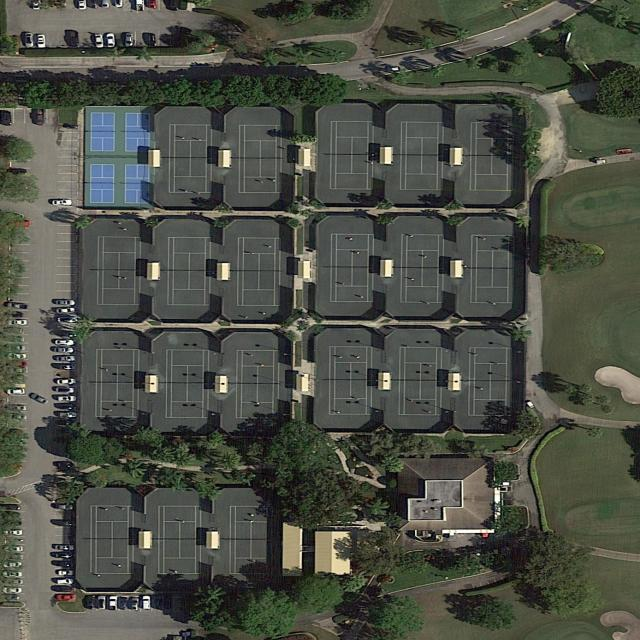small-vehicle: (29, 392, 49, 406), (55, 355, 77, 364), (68, 31, 80, 47), (6, 302, 29, 310), (2, 112, 14, 127), (56, 330, 78, 338), (3, 544, 25, 552), (56, 378, 77, 386), (55, 593, 76, 601), (6, 352, 27, 360), (147, 33, 159, 47), (55, 307, 76, 315), (2, 586, 23, 594), (118, 596, 129, 611), (60, 411, 78, 420), (51, 552, 74, 559), (52, 561, 75, 568), (55, 339, 75, 347), (57, 395, 77, 403), (7, 405, 27, 413), (107, 596, 118, 610), (57, 316, 79, 323), (7, 387, 26, 395), (106, 33, 116, 48), (35, 109, 45, 124), (52, 199, 73, 206), (55, 387, 76, 394), (55, 520, 76, 527), (3, 529, 24, 536), (57, 364, 78, 371), (2, 570, 23, 577), (8, 414, 29, 421), (57, 569, 75, 577), (94, 34, 104, 48), (55, 346, 75, 353), (96, 595, 106, 609), (130, 597, 140, 611), (3, 561, 23, 568), (55, 403, 75, 410), (3, 578, 23, 585), (55, 544, 74, 551), (54, 503, 73, 510), (8, 319, 27, 326), (87, 596, 98, 608), (25, 32, 33, 48), (125, 33, 134, 47), (37, 34, 46, 48), (56, 578, 74, 585), (9, 168, 27, 175), (55, 300, 75, 306), (5, 554, 25, 560), (143, 595, 151, 609), (2, 504, 20, 510), (54, 586, 73, 591), (3, 595, 20, 600), (58, 462, 74, 467), (594, 159, 606, 164), (387, 67, 399, 71)
